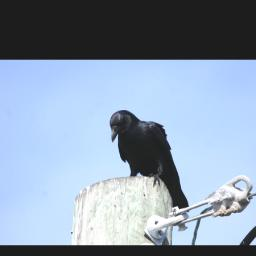Crow: (108, 109, 190, 214)
